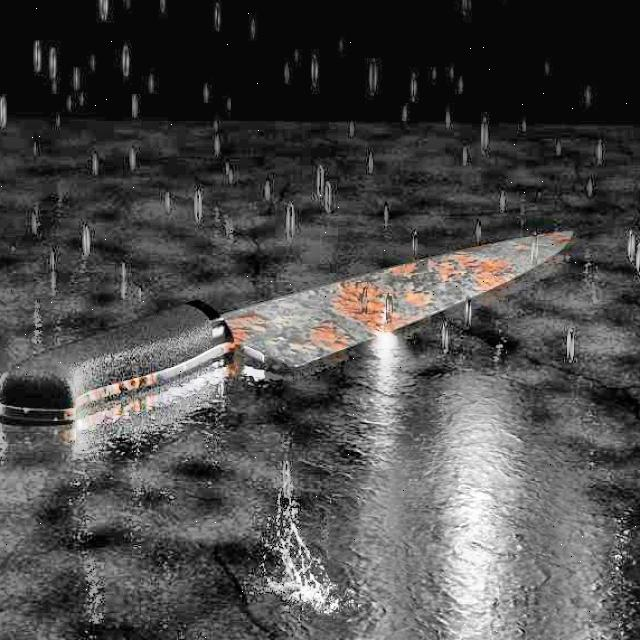knife: (64, 218, 583, 450)
